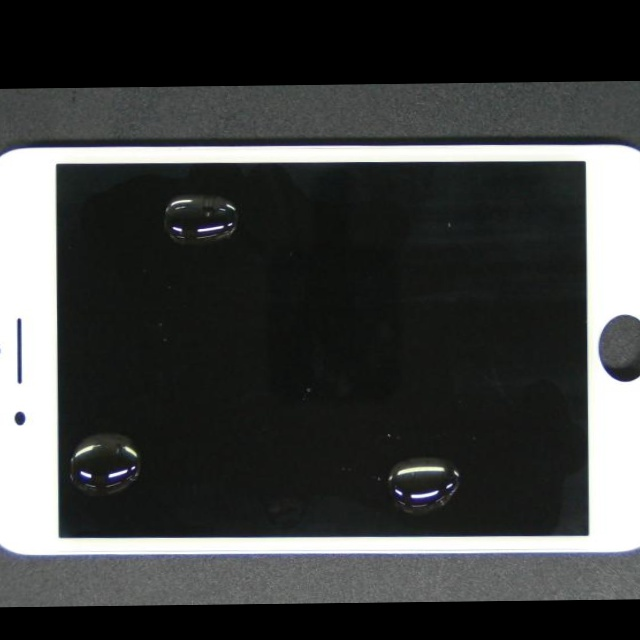oil: (241, 279, 640, 604), (70, 249, 199, 591), (129, 167, 367, 267)
